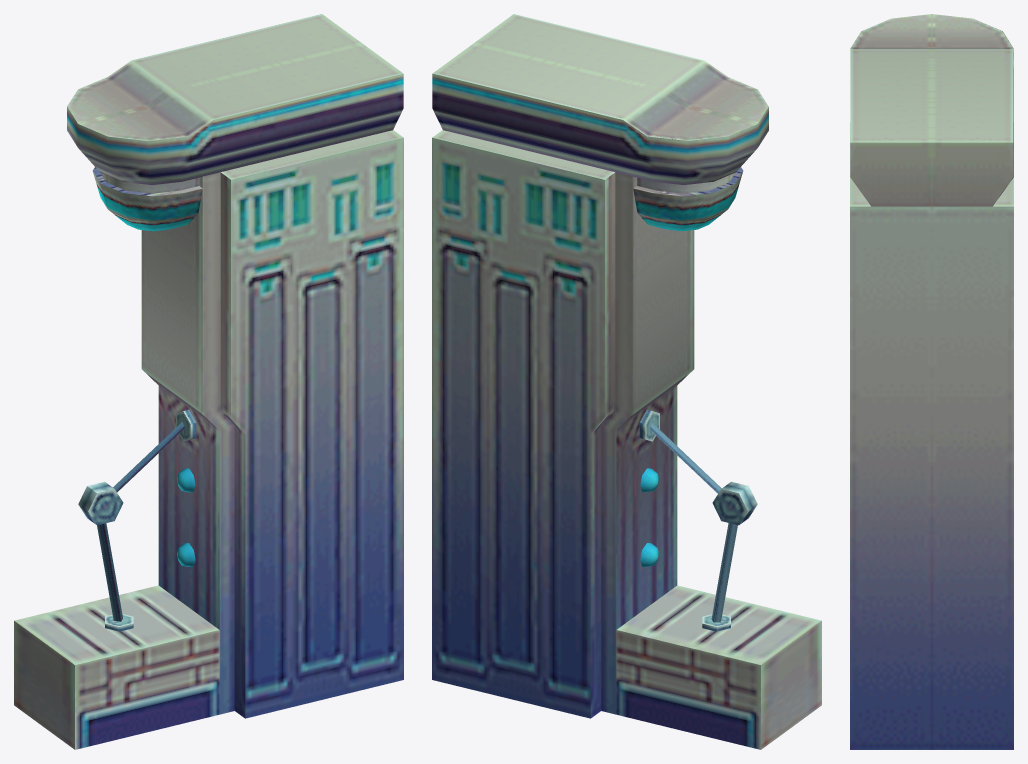
The model's file is cj_building1.fbx.
3 renders of one model, left to right at view 1: azimuth 30°, elevation 25°; view 2: azimuth 150°, elevation 25°; view 3: azimuth 270°, elevation 25°, orthographic.
Visible parts, largest first — view 1: cj_building1; view 2: cj_building1; view 3: cj_building1.
Part boxes in pixels (x1,y1,x2,y2): cj_building1: (14, 14, 403, 749); cj_building1: (432, 14, 821, 749); cj_building1: (850, 14, 1013, 749).
Bounding box in the file's own units: 3544 × 6448 × 1578.
